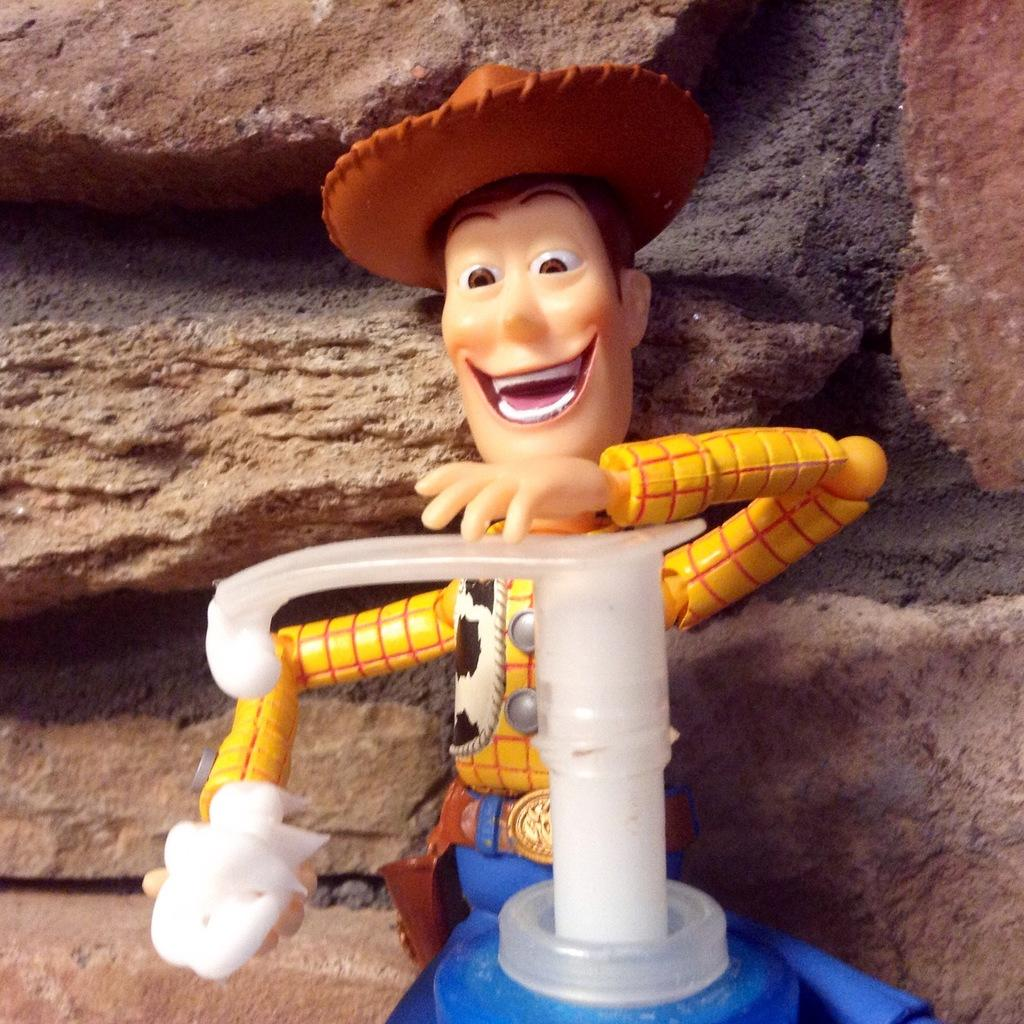Hat: (320, 66, 714, 292)
